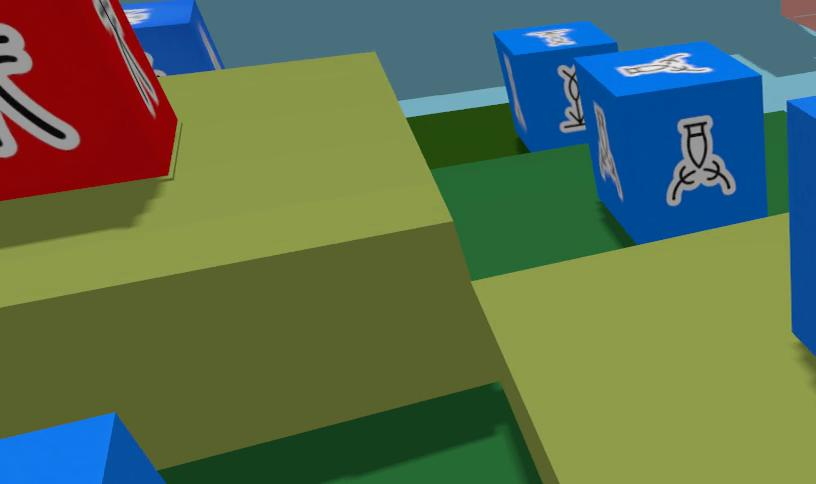KFS_FAKE: (0, 0, 176, 200), (0, 23, 79, 157)
KFS_REAL: (577, 41, 766, 241), (494, 21, 616, 150), (0, 413, 165, 484), (122, 0, 222, 75), (789, 97, 816, 356), (666, 116, 735, 206)
